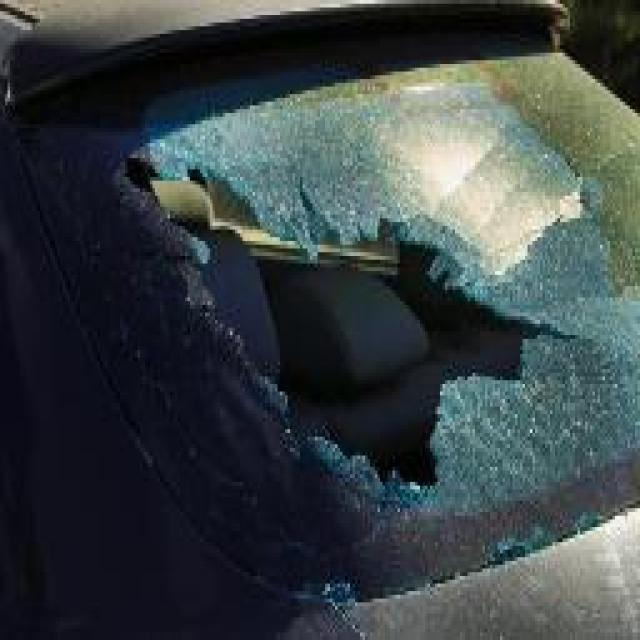Windshield: (32, 53, 640, 538)
